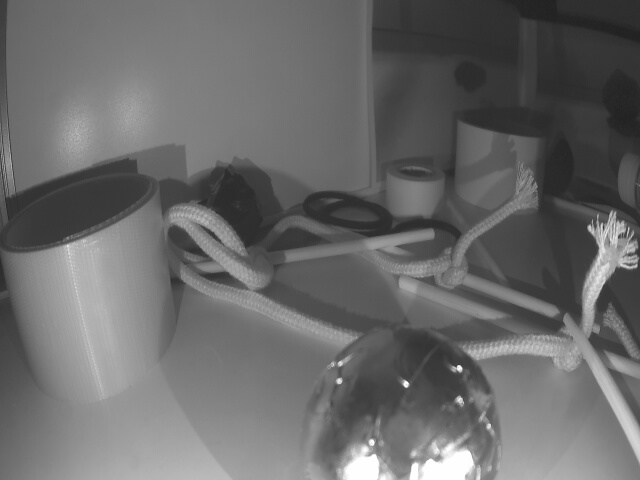Live: (300, 323, 504, 480)
